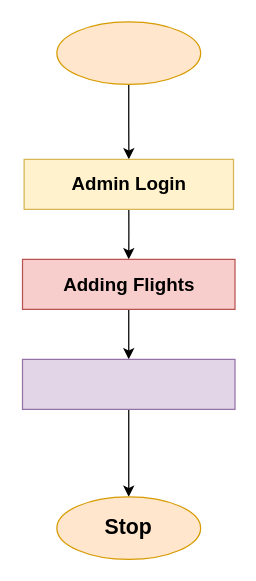
Image size: 256x581. Some labels were removed from this diagram. The shapes that lost their labels are listed below. From the top down, each one's box as (x1, y1, x2, y2) in pixels, then its label:
(56, 21, 201, 84): Start
(21, 358, 235, 409): Admin Logout
